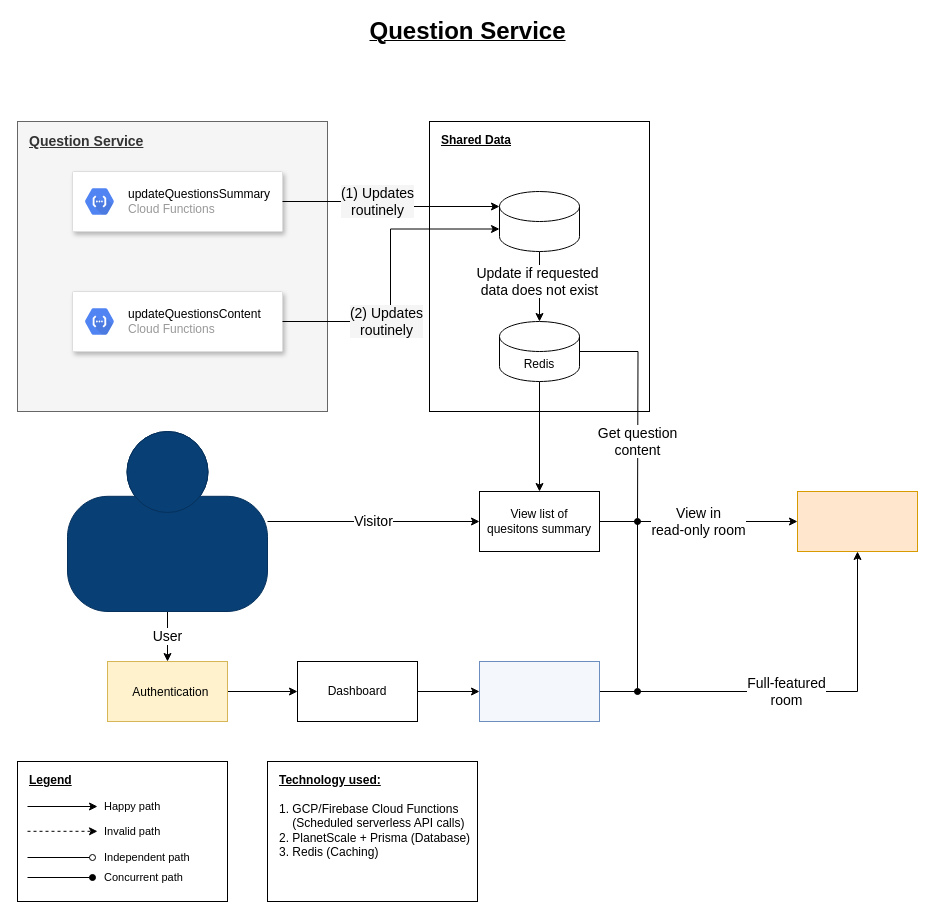
The diagram is 935 pixels wide and 919 high, and some of its shapes have lost their labels. The centre of each missing label's shape, as x and y in pixels:
Matching Service: pixel 539 691
Planetscale: pixel 539 221
Room Service: pixel 857 521
Visitor/User [Person] Visitor -> No account User -> Has account: pixel 167 521
